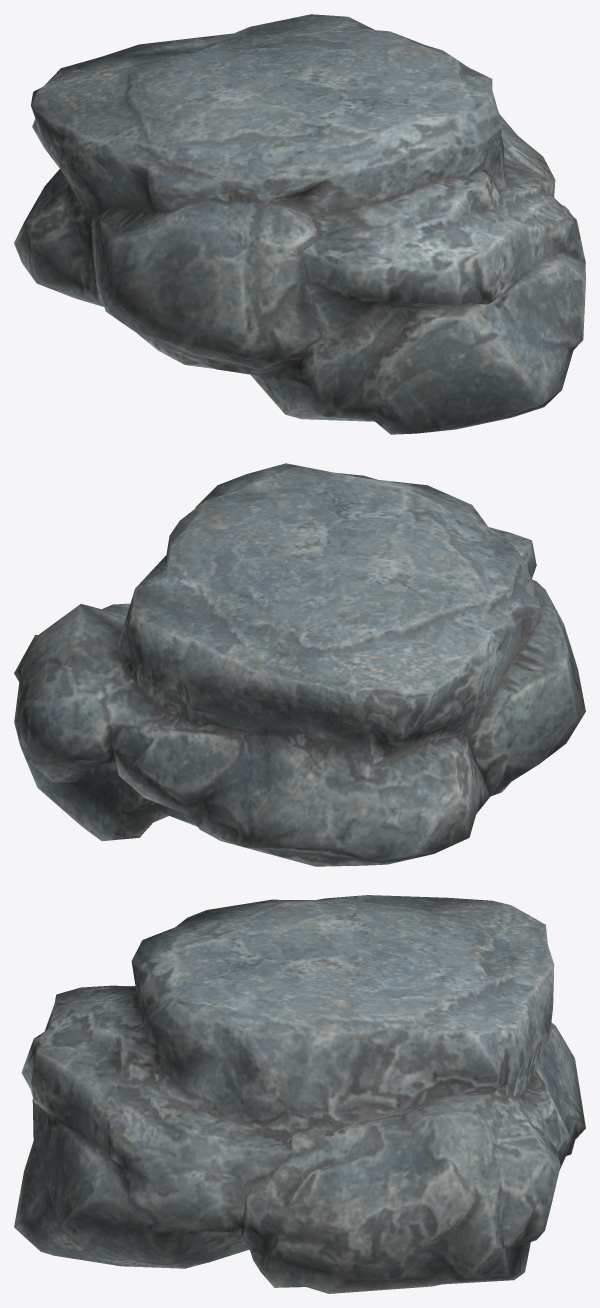
The model's file is PBR-Rocks-14-small.fbx.
3 renders of one model, top to bottom at view 1: azimuth 30°, elevation 25°; view 2: azimuth 150°, elevation 25°; view 3: azimuth 270°, elevation 25°, orthographic.
Visible parts, largest first — view 1: Rock_14_LOD0; view 2: Rock_14_LOD0; view 3: Rock_14_LOD0.
Boxes of the visible parts, x1,y1,x2,y2 form: Rock_14_LOD0: (14, 14, 585, 434); Rock_14_LOD0: (14, 463, 585, 866); Rock_14_LOD0: (14, 895, 585, 1293).
Bounding box in the file's own units: 260 × 143 × 269.
Materials: 1 (1 with a texture image).
